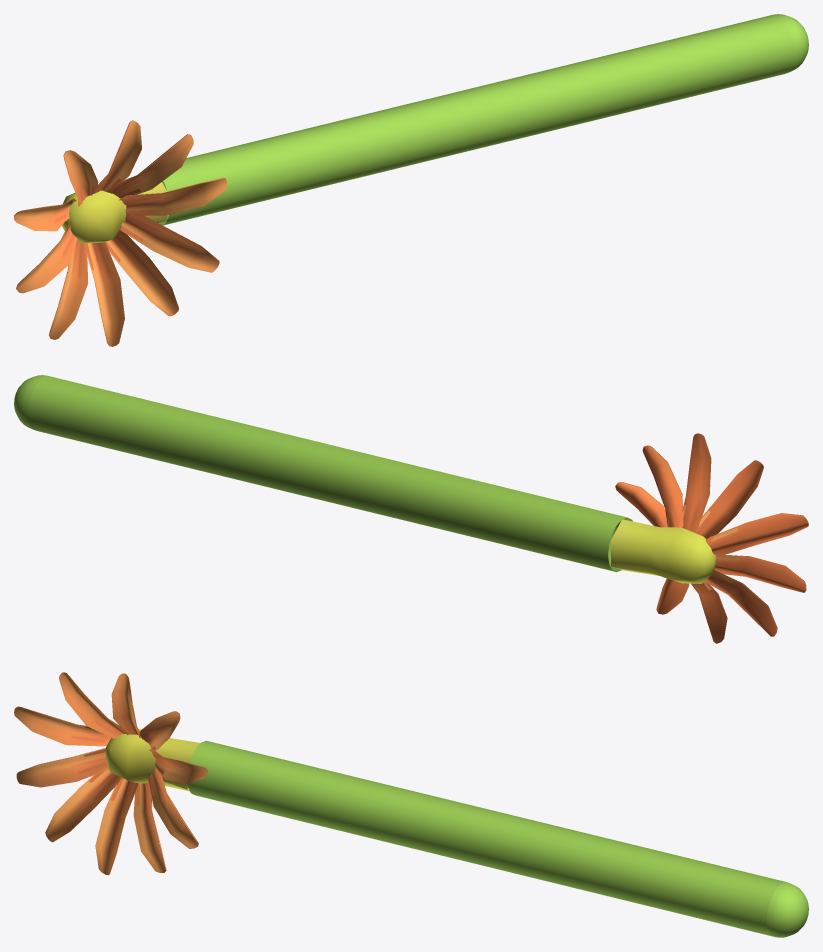
The model's file is 57_Pin_Flower.fbx.
3 views of the same model, one above another, from view 1: azimuth 30°, elevation 25°; view 2: azimuth 150°, elevation 25°; view 3: azimuth 330°, elevation 25° (orthographic). The views are drawn at different scales.
Visible parts, largest first — view 1: Pin_Flower_body, Pin_Flower_haid, Pin_Flower_tail; view 2: Pin_Flower_body, Pin_Flower_haid, Pin_Flower_tail; view 3: Pin_Flower_body, Pin_Flower_haid, Pin_Flower_tail.
Boxes of the visible parts, x1,y1,x2,y2 form: Pin_Flower_body: (159,14,793,225); Pin_Flower_haid: (14,120,226,346); Pin_Flower_tail: (773,14,808,73); Pin_Flower_body: (28,375,632,572); Pin_Flower_haid: (610,433,808,643); Pin_Flower_tail: (14,375,46,429); Pin_Flower_body: (187,740,785,936); Pin_Flower_haid: (14,672,207,875); Pin_Flower_tail: (766,882,808,937).
Size of the model in its own units: 3.95 by 1.02 by 0.4172.
